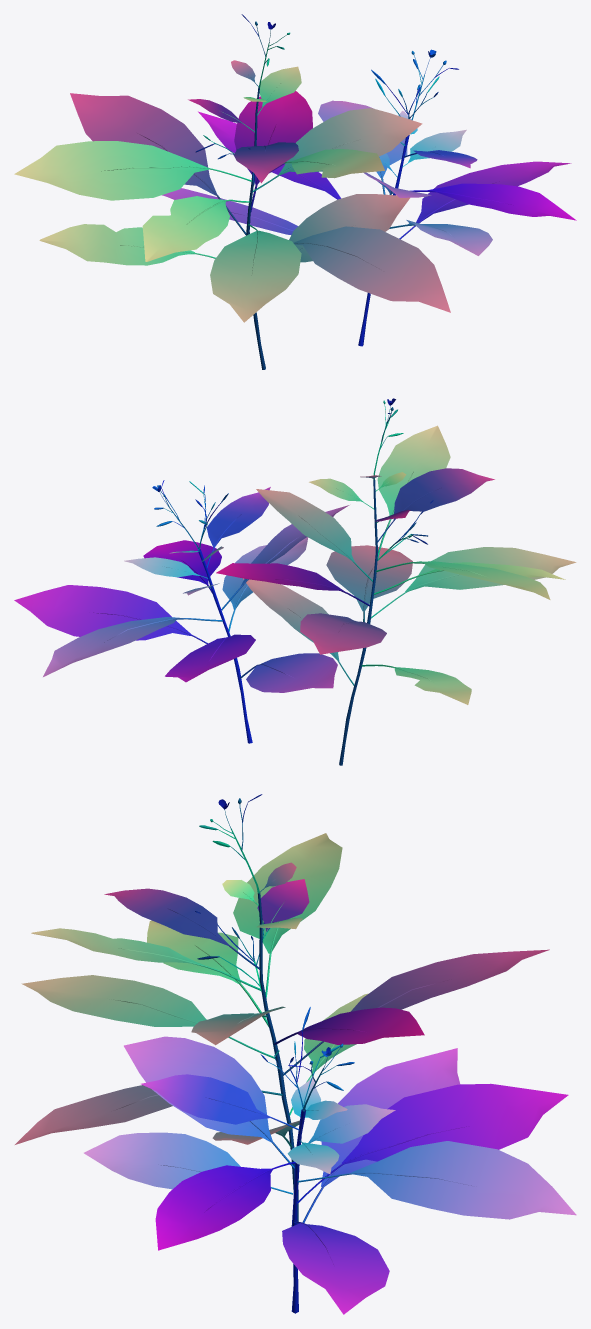
The model's file is xefmcgrqx_VarE_LOD0.fbx.
3 views of the same model, one above another, from view 1: azimuth 30°, elevation 25°; view 2: azimuth 150°, elevation 25°; view 3: azimuth 270°, elevation 25° (orthographic). The views are drawn at different scales.
Parts seen in each view (by area): view 1: _ihak_VarE_LOD1; view 2: _ihak_VarE_LOD1; view 3: _ihak_VarE_LOD1.
Boxes of the visible parts, box(x1,y1,x2,y2) form: _ihak_VarE_LOD1: box(14, 14, 576, 369); _ihak_VarE_LOD1: box(14, 398, 576, 765); _ihak_VarE_LOD1: box(15, 794, 576, 1314).
Size of the model in its own units: 64.89 by 41.09 by 47.42.
